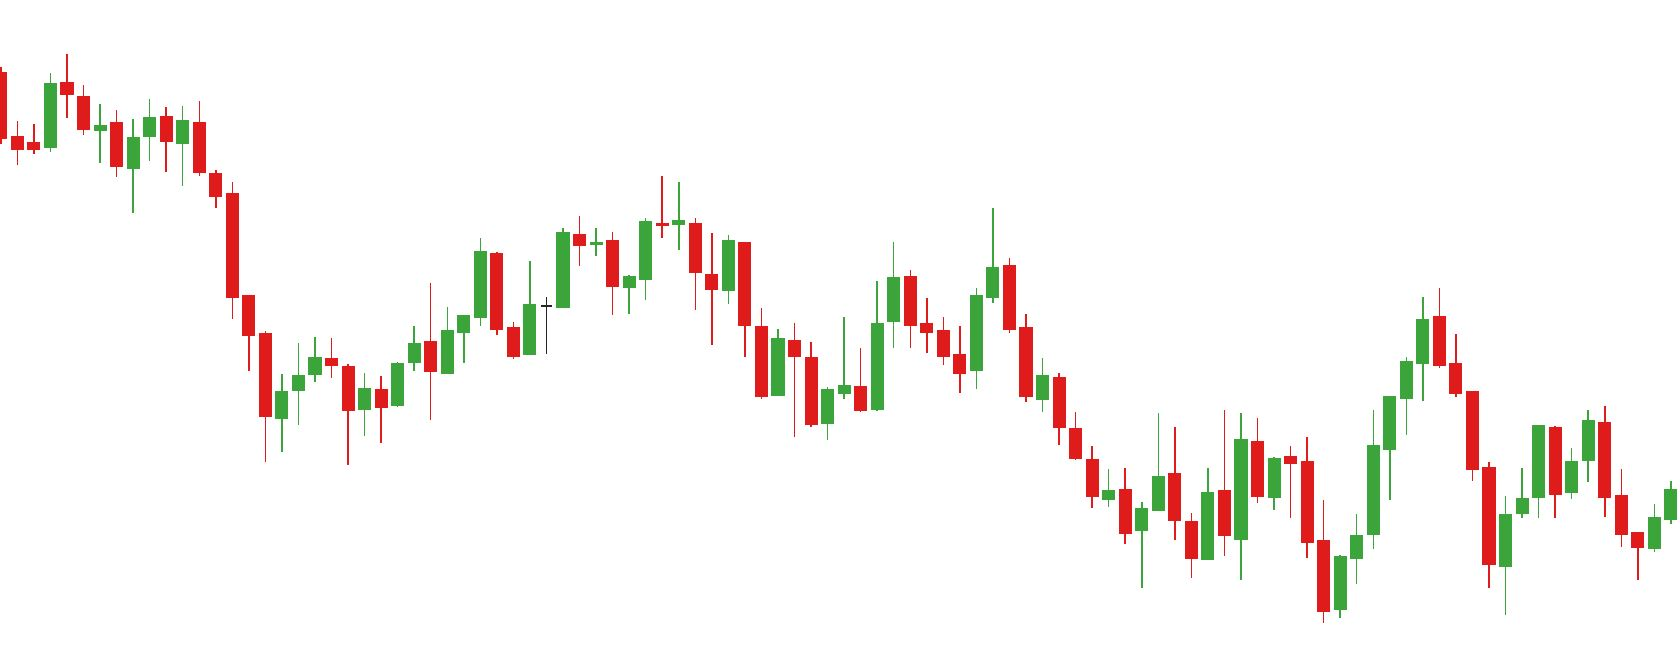buy: (1134, 466, 1350, 620), (259, 357, 374, 466)
sell: (885, 207, 997, 353), (552, 175, 670, 287)
